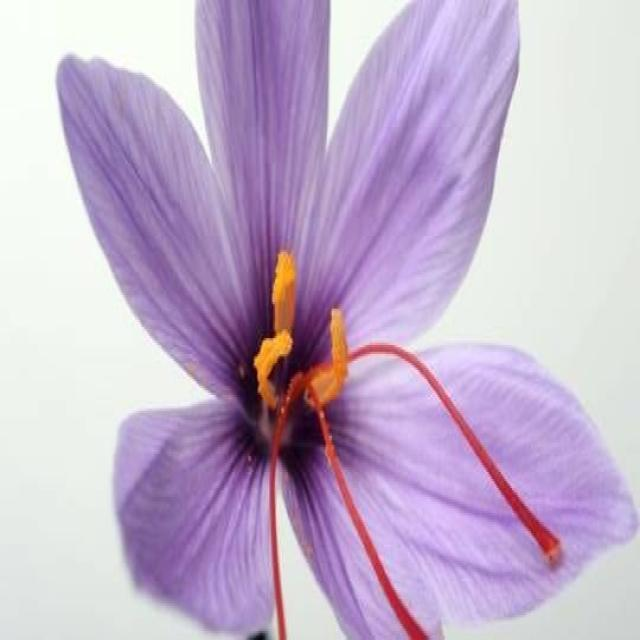Flower: (58, 2, 637, 637)
stigma: (343, 337, 565, 572), (311, 381, 430, 638), (230, 365, 307, 640)
